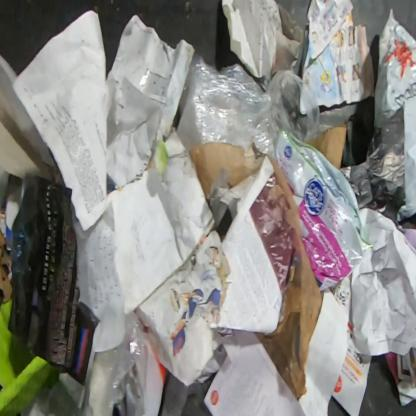cardboard: (135, 228, 232, 387), (0, 297, 68, 415), (222, 0, 305, 83), (330, 275, 374, 415), (308, 120, 349, 172)
soft_plastic: (190, 140, 325, 403), (274, 127, 374, 291), (176, 49, 320, 155), (374, 6, 415, 226), (92, 307, 148, 415), (115, 336, 168, 415)
